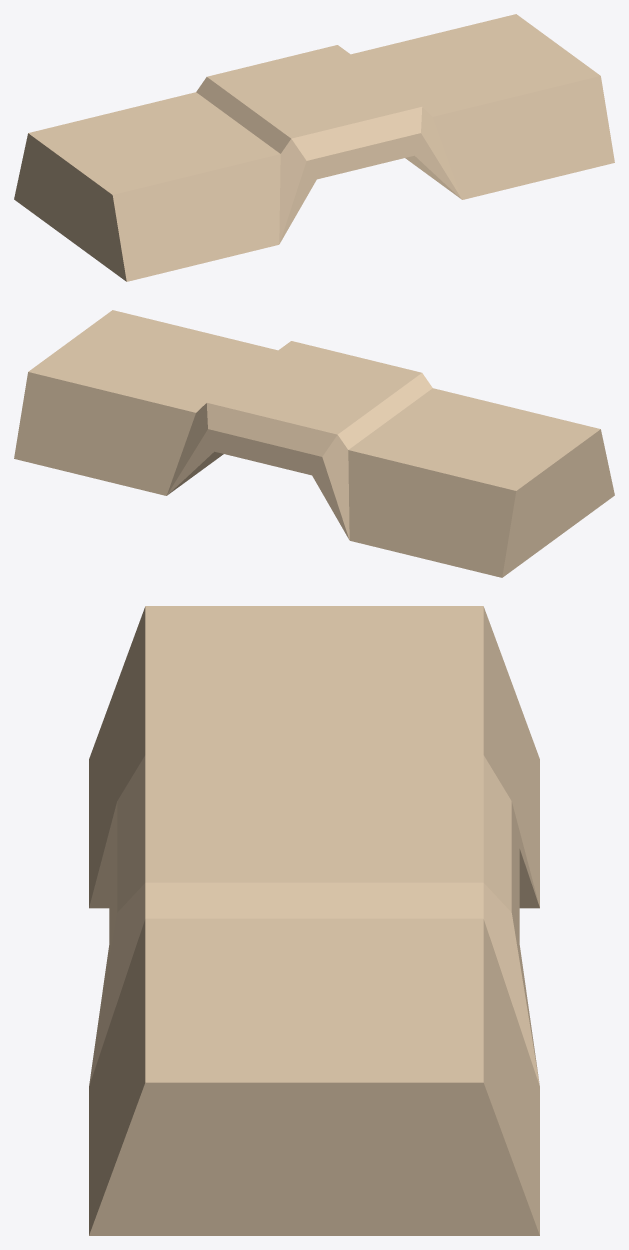
The model's file is Puzzle_Wall_Conduit_Passthrough_Base.glb.
The picture shows the model from 3 angles, top to bottom: view 1: azimuth 30°, elevation 25°; view 2: azimuth 150°, elevation 25°; view 3: azimuth 270°, elevation 25°; orthographic projection. The views are drawn at different scales.
Visible parts, largest first — view 1: Sandstone_5; view 2: Sandstone_5; view 3: Sandstone_5.
Boxes of the visible parts, x1=… form: Sandstone_5: x1=14, y1=14, x2=614, y2=281; Sandstone_5: x1=14, y1=310, x2=614, y2=577; Sandstone_5: x1=89, y1=606, x2=539, y2=1235.
Size of the model in its own units: 1 by 0.175 by 0.4.
